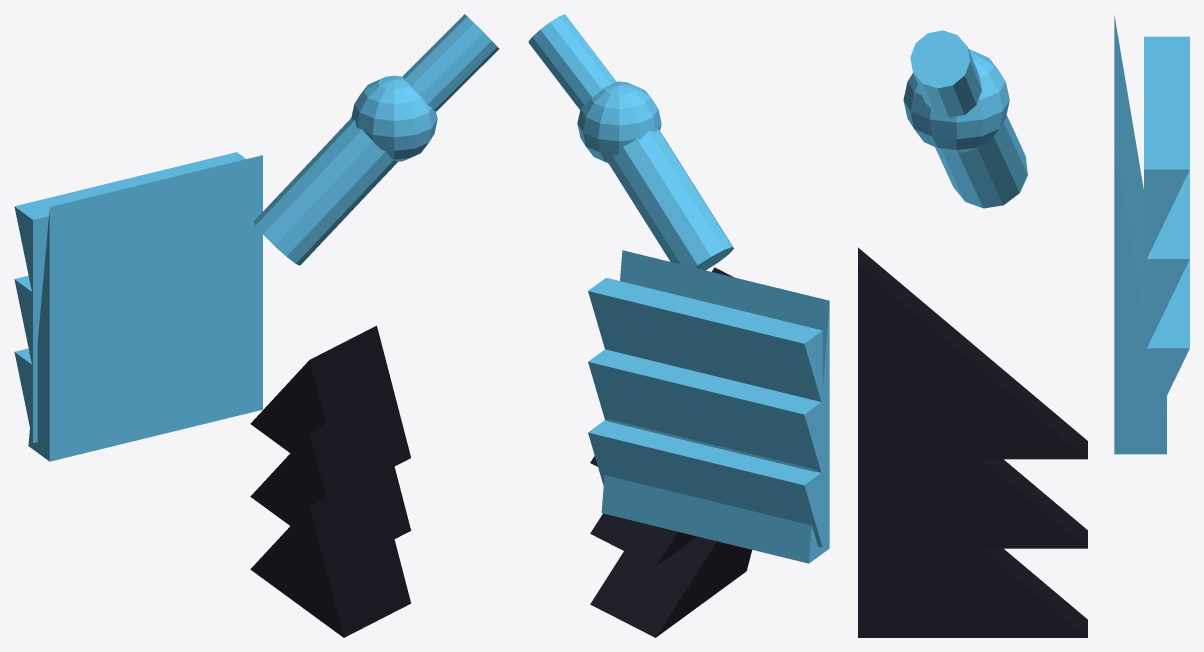
The model's file is WaterArmorRightUpperArm.obj.
The picture shows the model from 3 angles, left to right: view 1: azimuth 30°, elevation 25°; view 2: azimuth 150°, elevation 25°; view 3: azimuth 270°, elevation 25°; orthographic projection. The views are drawn at different scales.
Parts seen in each view (by area): view 1: WaterArmorRightUpperArm; view 2: WaterArmorRightUpperArm; view 3: WaterArmorRightUpperArm.
Boxes of the visible parts, bbox=[...] form: WaterArmorRightUpperArm: bbox=[14, 14, 499, 637]; WaterArmorRightUpperArm: bbox=[528, 14, 829, 637]; WaterArmorRightUpperArm: bbox=[858, 15, 1189, 637].
Size of the model in its own units: 1.64 by 2.3 by 1.01.
